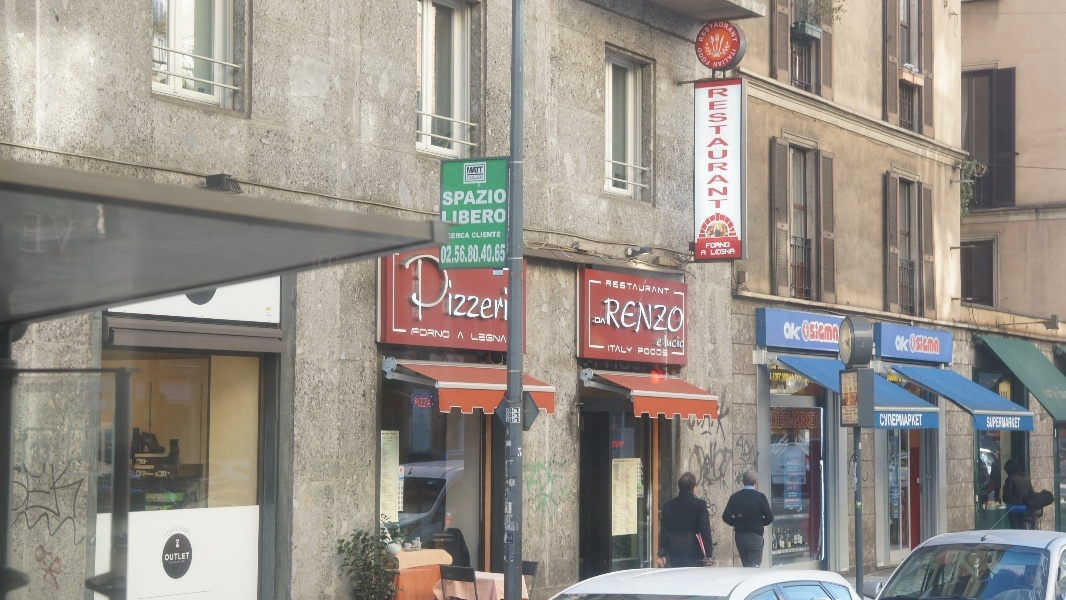text: (709, 88, 720, 209), (401, 239, 416, 322), (417, 239, 432, 322), (433, 239, 448, 322), (449, 239, 464, 322), (465, 239, 480, 322), (481, 239, 496, 322), (721, 88, 731, 209), (385, 432, 397, 521), (529, 460, 544, 520), (545, 460, 560, 520), (497, 239, 507, 322), (625, 460, 636, 534), (614, 460, 624, 534), (787, 453, 800, 508), (561, 460, 572, 520), (609, 298, 624, 332), (625, 298, 640, 332), (641, 298, 656, 332), (657, 298, 672, 332), (394, 239, 400, 322), (740, 436, 752, 469), (673, 298, 684, 332), (772, 432, 784, 458), (523, 460, 528, 520), (449, 245, 464, 264), (465, 245, 480, 264), (481, 245, 496, 264), (785, 322, 800, 341), (449, 189, 464, 206), (465, 189, 480, 206), (481, 189, 496, 206), (817, 324, 832, 341), (785, 412, 800, 429), (801, 412, 816, 429), (449, 209, 464, 225), (465, 209, 480, 225), (481, 209, 496, 225), (753, 436, 760, 469), (609, 280, 624, 295), (625, 280, 640, 295), (641, 280, 656, 295), (897, 335, 910, 352), (801, 434, 810, 458), (772, 412, 784, 429), (177, 525, 191, 539), (657, 280, 670, 295), (658, 335, 672, 348), (163, 525, 176, 539), (1042, 390, 1056, 403), (881, 414, 896, 426), (897, 414, 912, 426), (993, 416, 1008, 428), (382, 432, 384, 521), (917, 337, 928, 353), (481, 332, 496, 343), (417, 328, 432, 339), (433, 328, 448, 339), (929, 337, 939, 353), (497, 189, 506, 206), (497, 245, 505, 264), (497, 209, 506, 225), (1009, 416, 1021, 428), (849, 407, 858, 423), (673, 335, 684, 348), (604, 298, 608, 332), (641, 348, 656, 357), (609, 345, 624, 354), (441, 245, 448, 264), (786, 385, 800, 394), (417, 398, 431, 407), (913, 414, 923, 426), (1057, 390, 1066, 403), (897, 373, 908, 383), (481, 232, 496, 239), (467, 166, 480, 174), (177, 553, 190, 561), (785, 432, 789, 458), (833, 324, 839, 341), (471, 332, 480, 343), (497, 332, 506, 343), (657, 348, 668, 357), (853, 375, 864, 384), (706, 242, 720, 249), (442, 209, 448, 225), (595, 317, 608, 324), (449, 233, 464, 239), (887, 373, 896, 383), (518, 448, 528, 457), (773, 373, 784, 381), (165, 553, 176, 561), (443, 189, 448, 206), (811, 324, 816, 341), (721, 249, 735, 255), (802, 377, 816, 383), (999, 391, 1008, 400), (913, 387, 921, 397), (843, 407, 848, 423), (625, 345, 633, 354), (785, 374, 794, 382), (612, 442, 624, 448), (771, 365, 784, 370), (721, 242, 730, 249), (987, 416, 992, 428), (906, 387, 912, 397), (472, 232, 480, 239), (711, 249, 720, 255), (778, 385, 784, 394), (854, 386, 864, 391), (468, 176, 480, 180), (798, 434, 800, 458), (795, 374, 800, 383), (801, 385, 806, 394), (412, 328, 416, 339), (817, 412, 819, 429), (177, 560, 185, 564), (606, 280, 608, 295), (465, 233, 470, 239), (460, 332, 464, 339), (497, 232, 501, 239), (481, 166, 484, 174), (778, 366, 784, 370), (170, 560, 176, 564), (701, 250, 704, 256), (638, 348, 640, 357), (782, 374, 784, 382), (449, 328, 450, 339), (481, 176, 483, 180), (705, 250, 706, 256), (785, 366, 786, 370)
